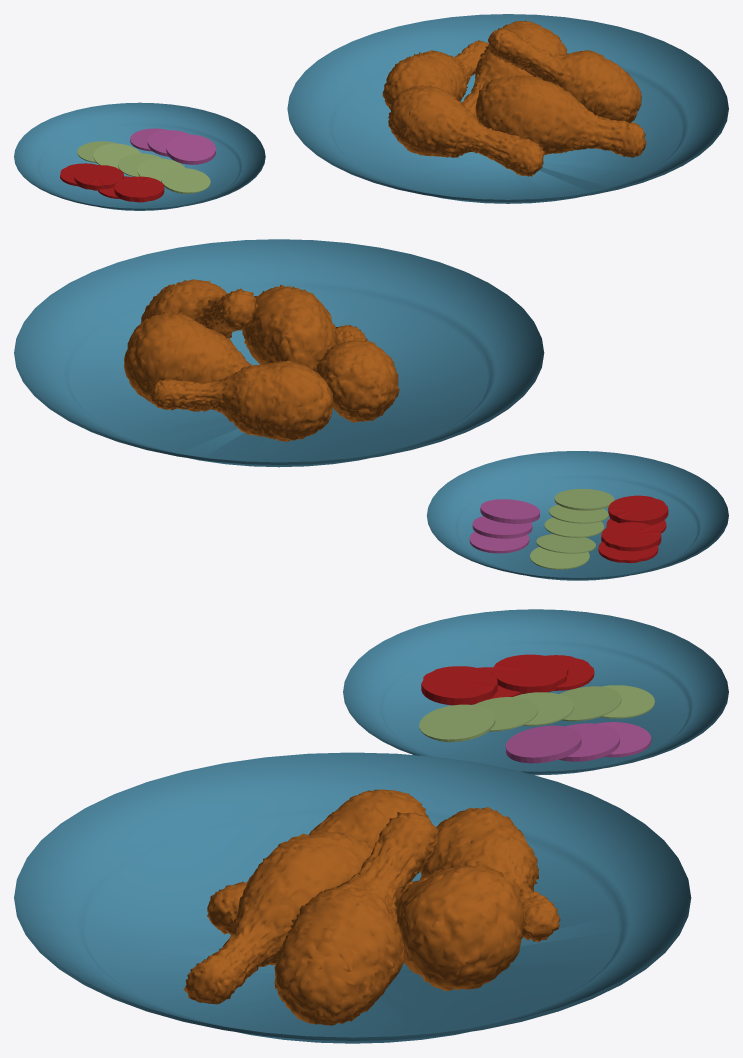
Rendered from Crispy_chicken_color.obj.
3 views of the same model, one above another, from view 1: azimuth 30°, elevation 25°; view 2: azimuth 150°, elevation 25°; view 3: azimuth 270°, elevation 25° (orthographic). The views are drawn at different scales.
Visible parts, largest first — view 1: Plate_Big_Circle.009_Material.008, Plate_Small_Circle.000_Material.008, Cube.003_Cube.003_Material, Chicken_4_Cube.004_Material, Chicken_1_Cube.002_Material, Chicken_3_Cube.001_Material, Cucumber_Cylinder.006_Cucmber, Tomato_Cylinder_Tomato, Chicken_2_Cube_Material, Onions_Cylinder.014_Onion; view 2: Plate_Big_Circle.009_Material.008, Plate_Small_Circle.000_Material.008, Chicken_3_Cube.001_Material, Chicken_2_Cube_Material, Cube.003_Cube.003_Material, Chicken_4_Cube.004_Material, Cucumber_Cylinder.006_Cucmber, Chicken_1_Cube.002_Material, Tomato_Cylinder_Tomato, Onions_Cylinder.014_Onion; view 3: Plate_Big_Circle.009_Material.008, Plate_Small_Circle.000_Material.008, Chicken_1_Cube.002_Material, Chicken_2_Cube_Material, Cube.003_Cube.003_Material, Cucumber_Cylinder.006_Cucmber, Chicken_3_Cube.001_Material, Tomato_Cylinder_Tomato, Onions_Cylinder.014_Onion, Chicken_4_Cube.004_Material.
Part boxes in pixels (x1,y1,x2,y2): Plate_Big_Circle.009_Material.008: [287, 14, 728, 203]; Plate_Small_Circle.000_Material.008: [14, 102, 265, 210]; Cube.003_Cube.003_Material: [475, 75, 646, 157]; Chicken_4_Cube.004_Material: [388, 85, 545, 176]; Chicken_1_Cube.002_Material: [488, 28, 641, 122]; Chicken_3_Cube.001_Material: [382, 40, 488, 109]; Cucumber_Cylinder.006_Cucmber: [77, 141, 210, 193]; Tomato_Cylinder_Tomato: [60, 163, 164, 202]; Chicken_2_Cube_Material: [461, 20, 567, 116]; Onions_Cylinder.014_Onion: [130, 128, 215, 164]; Plate_Big_Circle.009_Material.008: [14, 239, 544, 467]; Plate_Small_Circle.000_Material.008: [426, 451, 728, 580]; Chicken_3_Cube.001_Material: [149, 360, 333, 441]; Chicken_2_Cube_Material: [124, 312, 252, 411]; Cube.003_Cube.003_Material: [234, 285, 337, 371]; Chicken_4_Cube.004_Material: [317, 325, 399, 422]; Cucumber_Cylinder.006_Cucmber: [530, 489, 614, 569]; Chicken_1_Cube.002_Material: [141, 279, 258, 338]; Tomato_Cylinder_Tomato: [598, 495, 668, 563]; Onions_Cylinder.014_Onion: [469, 499, 539, 553]; Plate_Big_Circle.009_Material.008: [14, 752, 691, 1043]; Plate_Small_Circle.000_Material.008: [343, 609, 728, 775]; Chicken_1_Cube.002_Material: [274, 812, 439, 1025]; Chicken_2_Cube_Material: [395, 864, 524, 990]; Cube.003_Cube.003_Material: [183, 831, 373, 1004]; Cucumber_Cylinder.006_Cucmber: [419, 685, 654, 742]; Chicken_3_Cube.001_Material: [419, 807, 560, 942]; Tomato_Cylinder_Tomato: [421, 654, 594, 705]; Onions_Cylinder.014_Onion: [505, 722, 651, 763]; Chicken_4_Cube.004_Material: [207, 789, 429, 934].
Bounding box in the file's own units: 3.18 × 0.553 × 2.11.
